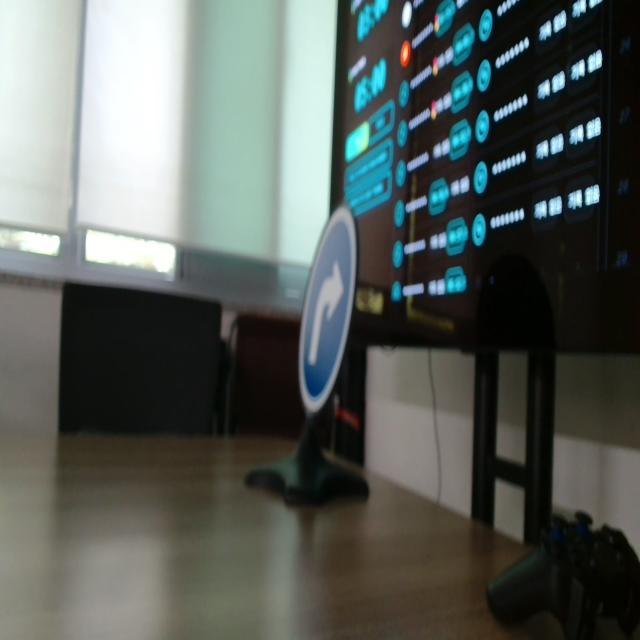right_dierection: (290, 198, 366, 435)
